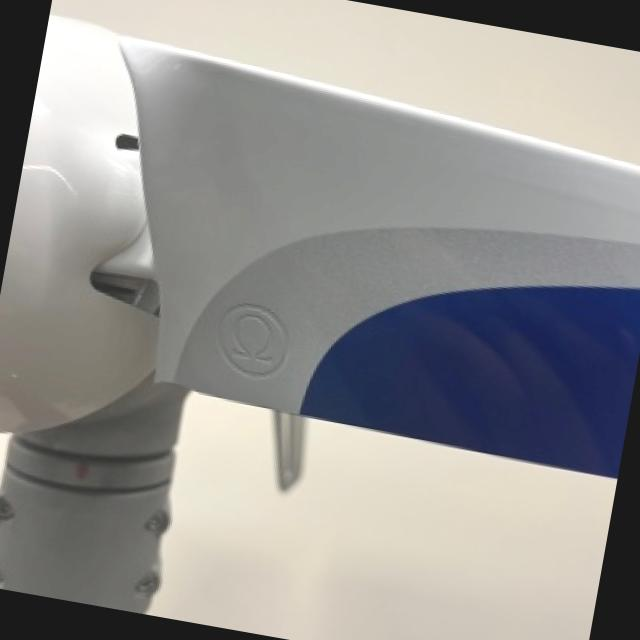healthy: (151, 393, 617, 640)
